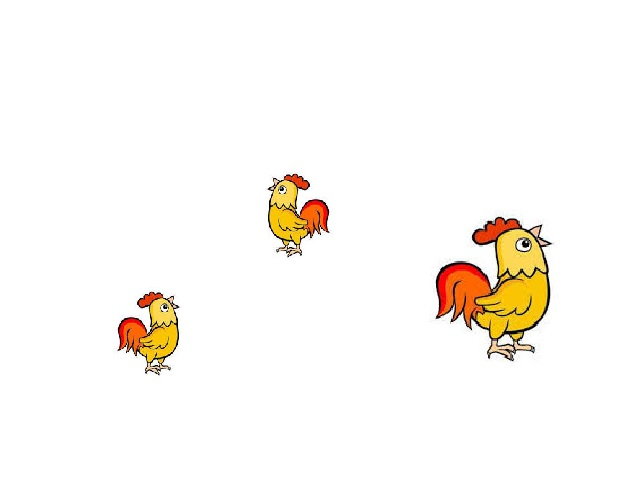crown: (469, 219, 517, 244), (286, 172, 311, 194), (138, 294, 164, 305)
eyes: (515, 235, 531, 254), (277, 184, 287, 196), (162, 303, 171, 315)
feet: (488, 337, 533, 357), (276, 240, 312, 264), (144, 363, 176, 373)
tail: (434, 264, 488, 323), (301, 197, 330, 237), (121, 321, 144, 351)
